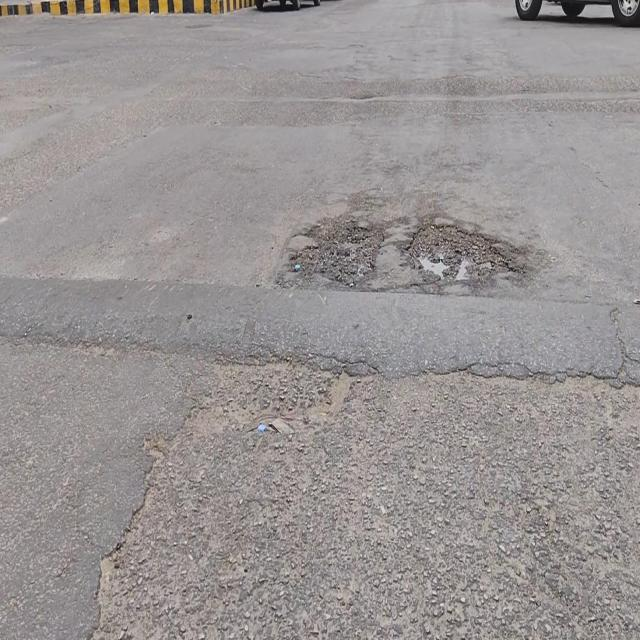Potholes: (286, 209, 386, 289), (404, 218, 523, 282)
